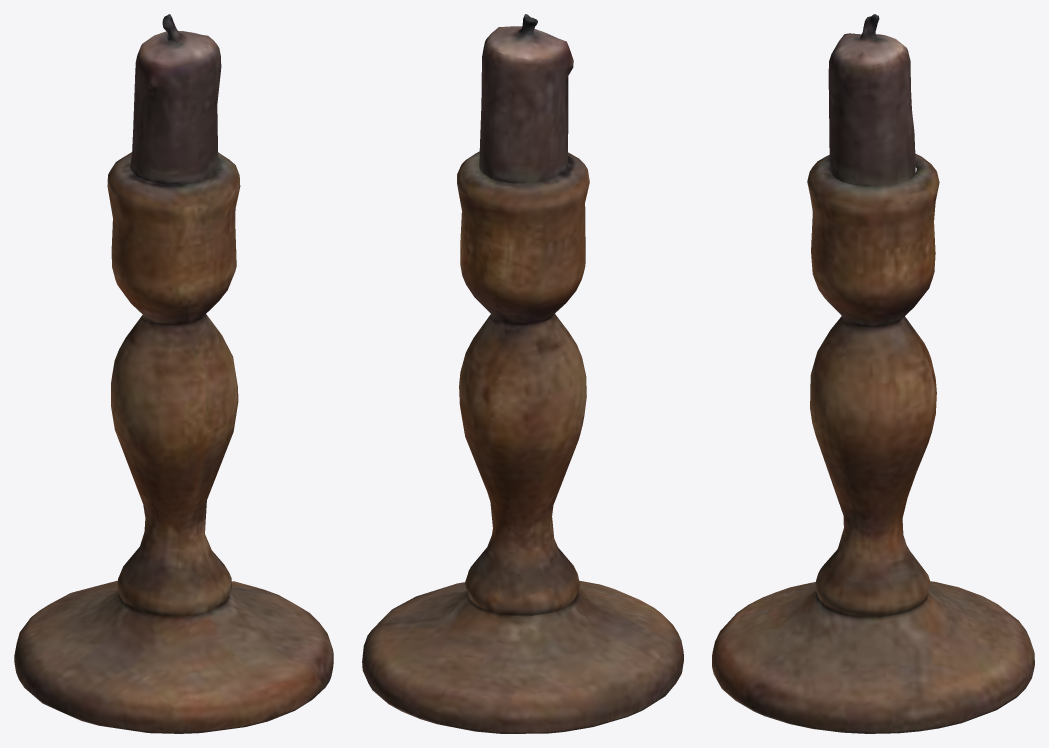
File: candlestick-wooden.48465661.glb
3 views of the same model, side by side, from view 1: azimuth 30°, elevation 25°; view 2: azimuth 150°, elevation 25°; view 3: azimuth 270°, elevation 25° (orthographic).
Parts seen in each view (by area): view 1: model; view 2: model; view 3: model.
Part boxes in pixels (x1,y1,x2,y2): model: (14,14,333,733); model: (362,14,683,733); model: (712,14,1034,733).
Size of the model in its own units: 0.0971 by 0.2196 by 0.0986.
1 material, 1 textured.
